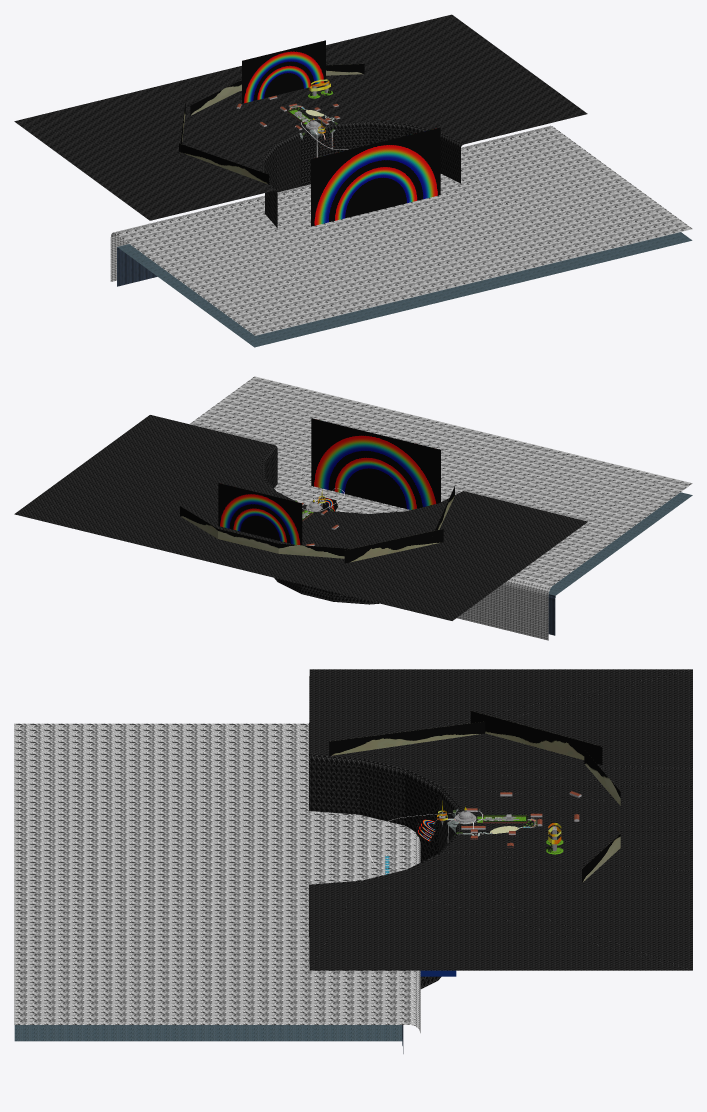
The picture shows the model from 3 angles, top to bottom: view 1: azimuth 30°, elevation 25°; view 2: azimuth 150°, elevation 25°; view 3: azimuth 270°, elevation 25°; orthographic projection. The views are drawn at different scales.
Visible parts, largest first — view 1: ind2_uw_water, ind_sea, _1_rainbows, _0_sand, ind_waterfall, _2_moutains, uw_rocks, O_uw_waterfall; view 2: ind_sea, ind2_uw_water, _1_rainbows, O_uw_waterfall, _2_moutains, _0_sand, ind_waterfall; view 3: ind2_uw_water, ind_sea, ind_waterfall, _0_sand, _2_moutains.
Part boxes in pixels (<box>): ind2_uw_water: <box>113,116,692,335</box>; ind_sea: <box>14,14,587,220</box>; _1_rainbows: <box>242,40,440,226</box>; _0_sand: <box>117,232,692,347</box>; ind_waterfall: <box>261,121,463,227</box>; _2_moutains: <box>179,64,364,184</box>; uw_rocks: <box>117,247,157,286</box>; O_uw_waterfall: <box>110,107,332,281</box>; ind_sea: <box>14,415,587,620</box>; ind2_uw_water: <box>189,376,692,588</box>; _1_rainbows: <box>218,418,440,545</box>; O_uw_waterfall: <box>457,578,550,640</box>; _2_moutains: <box>180,486,454,563</box>; _0_sand: <box>549,492,692,595</box>; ind_waterfall: <box>261,445,463,604</box>; ind2_uw_water: <box>14,723,501,1025</box>; ind_sea: <box>309,669,692,970</box>; ind_waterfall: <box>309,754,460,988</box>; _0_sand: <box>14,1025,402,1041</box>; _2_moutains: <box>329,711,620,882</box>.
Size of the model in its own units: 1300786 by 386915 by 1237531.
56 materials, 56 textured.
